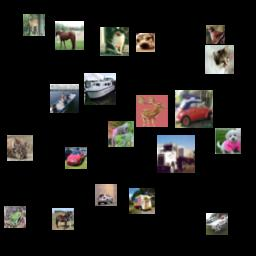automobile: (175, 90, 213, 128), (95, 184, 117, 206), (206, 213, 228, 235), (65, 147, 87, 169)
bird: (206, 25, 225, 44)
cat: (205, 45, 234, 74), (100, 27, 129, 56), (108, 121, 134, 147), (7, 135, 33, 161)
deer: (136, 95, 168, 127), (23, 14, 45, 36)
dog: (215, 128, 241, 154), (136, 33, 155, 52)
frog: (4, 206, 26, 228)
ship: (84, 73, 116, 105), (50, 84, 79, 113)
truck: (157, 135, 195, 173), (129, 188, 155, 214)
